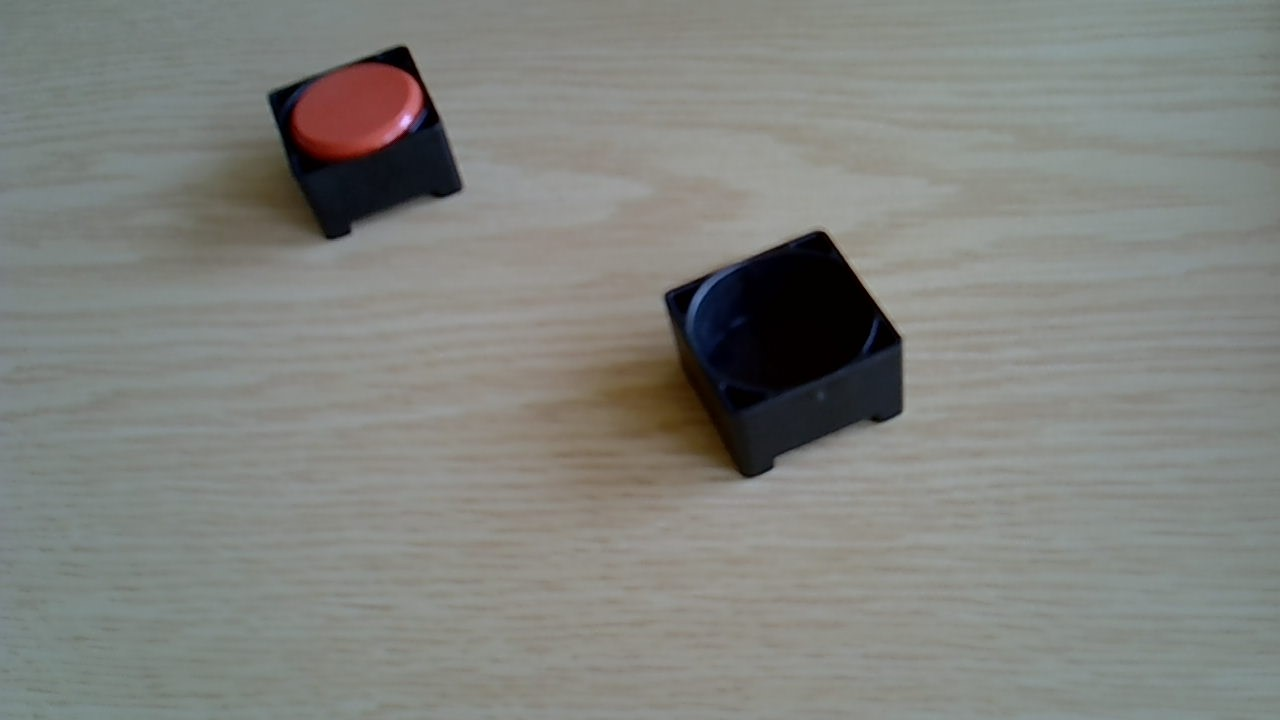Behaelter: (661, 229, 907, 477), (266, 46, 464, 243)
WerkStueck: (291, 61, 420, 160)
